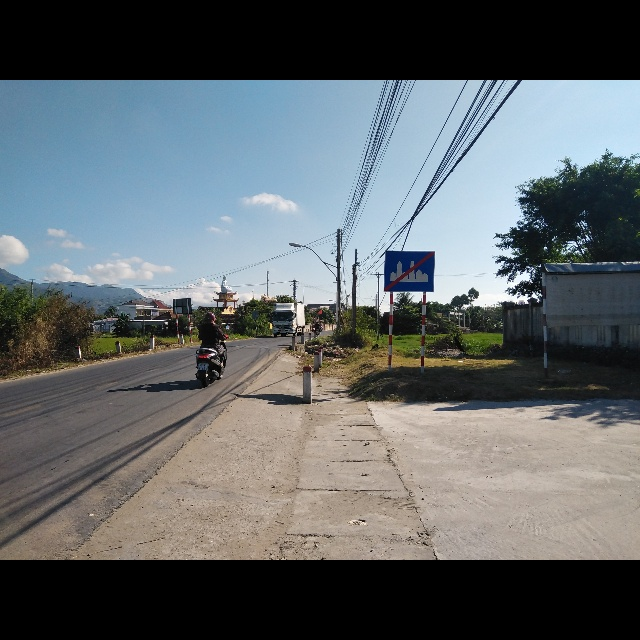Hết khu đông dân cư: (384, 249, 438, 292)
